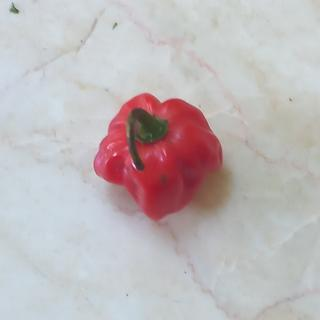Grade-B: (91, 84, 228, 226)
